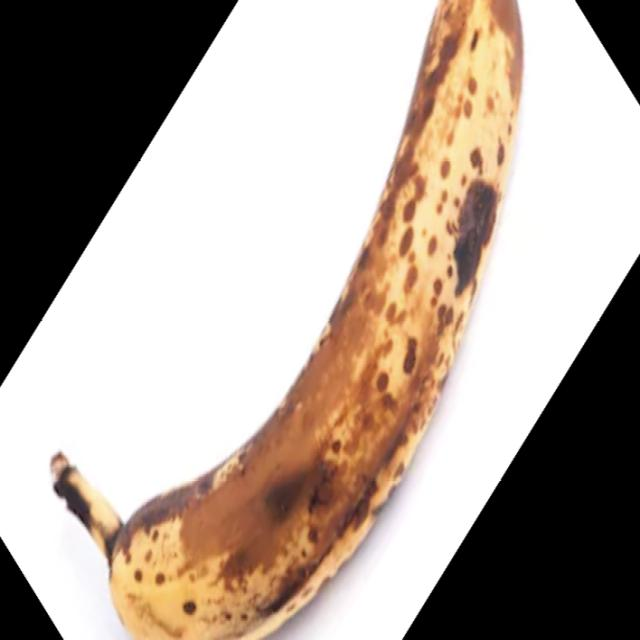overripe: (49, 0, 526, 640)
